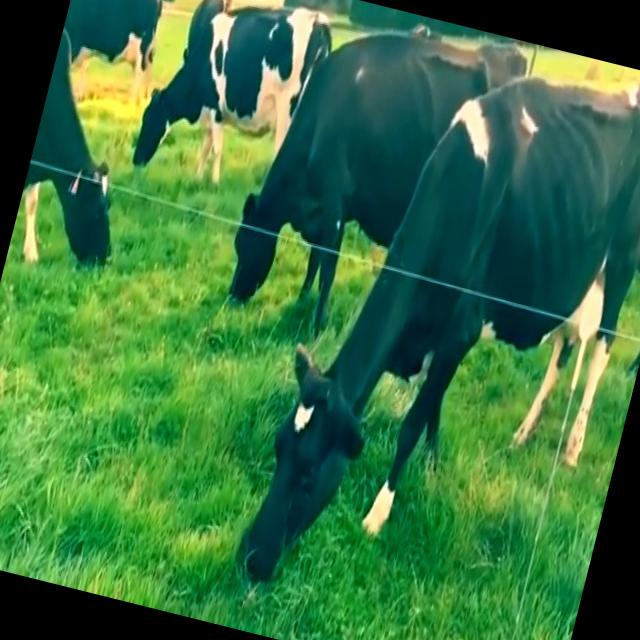cow: (133, 0, 640, 579), (24, 29, 108, 263)
